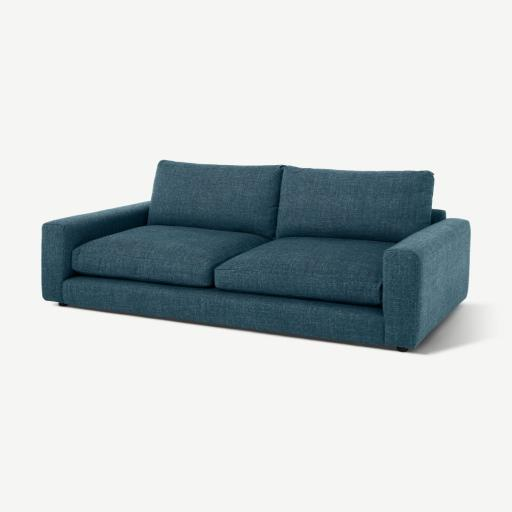back_cushion: (149, 160, 434, 242)
base: (62, 277, 384, 344)
left_arm: (382, 219, 470, 350)
right_arm: (42, 202, 148, 302)
seat_cushion: (72, 225, 392, 306)
two-seater: (0, 0, 511, 512)
